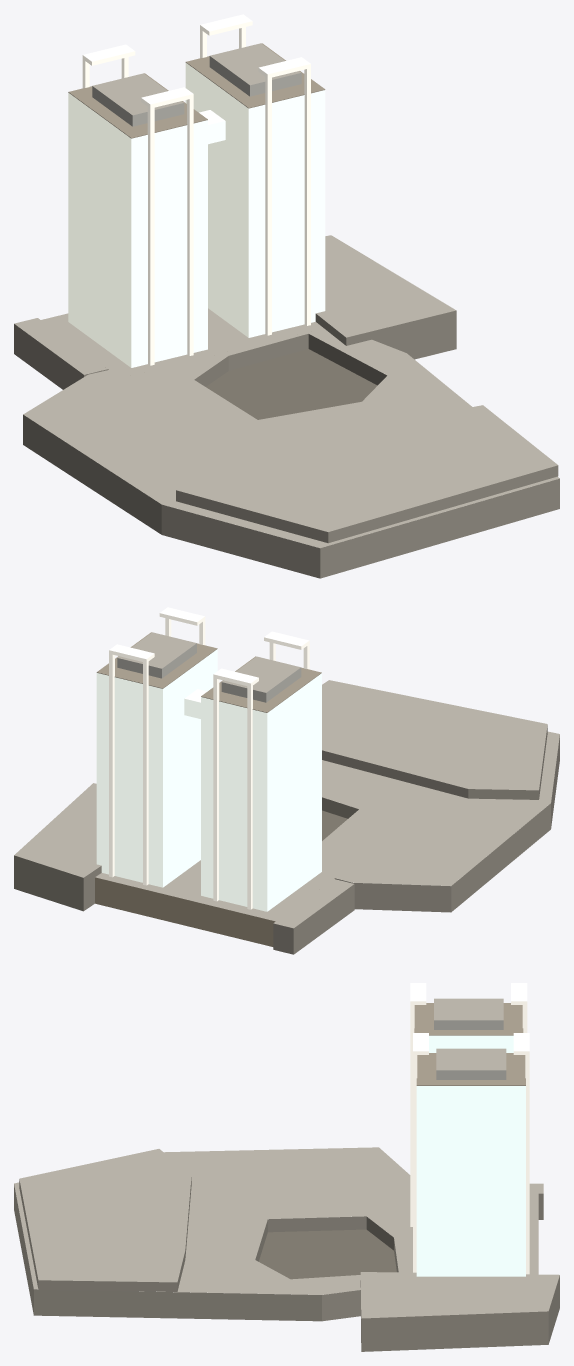
The model's file is one_constitution_avenue_far.glb.
The picture shows the model from 3 angles, top to bottom: view 1: azimuth 30°, elevation 25°; view 2: azimuth 150°, elevation 25°; view 3: azimuth 270°, elevation 25°; orthographic projection. The views are drawn at different scales.
Visible parts, largest first — view 1: m_concrete_raw, m_glass_balcony, m_frame_bay, m_fin_white, m_court_floor, m_roof_concrete, m_band_light; view 2: m_concrete_raw, m_glass_balcony, m_frame_bay, m_fin_white, m_podium_stone, m_roof_concrete, m_band_light; view 3: m_concrete_raw, m_glass_balcony, m_frame_bay, m_court_floor, m_fin_white, m_roof_concrete, m_band_light.
Part boxes in pixels (x1,y1,x2,y2): m_concrete_raw: (14, 43, 559, 548); m_glass_balcony: (68, 63, 325, 367); m_frame_bay: (14, 310, 559, 578); m_fin_white: (82, 14, 310, 365); m_court_floor: (206, 349, 377, 419); m_roof_concrete: (68, 43, 325, 138); m_band_light: (92, 56, 301, 126); m_concrete_raw: (14, 632, 559, 928); m_glass_balcony: (96, 649, 321, 911); m_frame_bay: (14, 725, 559, 954); m_fin_white: (109, 607, 309, 909); m_podium_stone: (95, 877, 334, 946); m_roof_concrete: (96, 632, 321, 712); m_band_light: (117, 643, 301, 702); m_concrete_raw: (14, 998, 559, 1318); m_glass_balcony: (416, 1035, 525, 1276); m_frame_bay: (14, 1177, 559, 1351); m_court_floor: (259, 1229, 396, 1279); m_fin_white: (410, 983, 529, 1274); m_roof_concrete: (414, 1003, 525, 1085); m_band_light: (434, 1020, 506, 1079).
Bounding box in the file's own units: 160 × 106 × 207.
